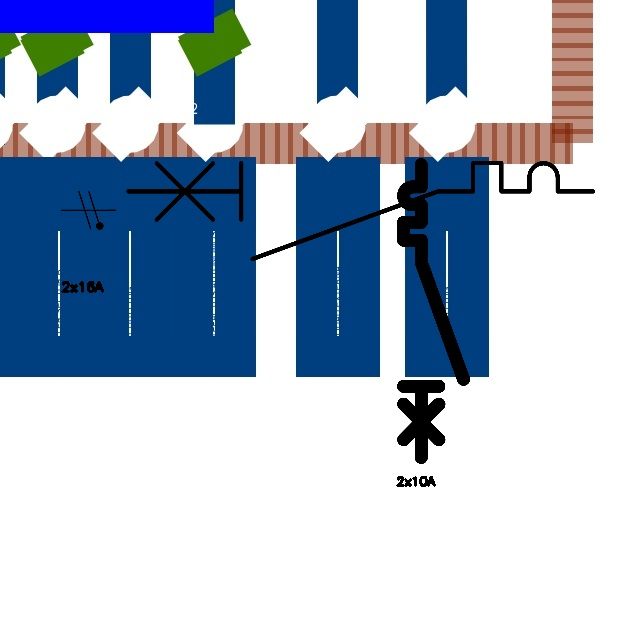interruptor_termomagnetico: (116, 151, 605, 270), (396, 157, 471, 465)
